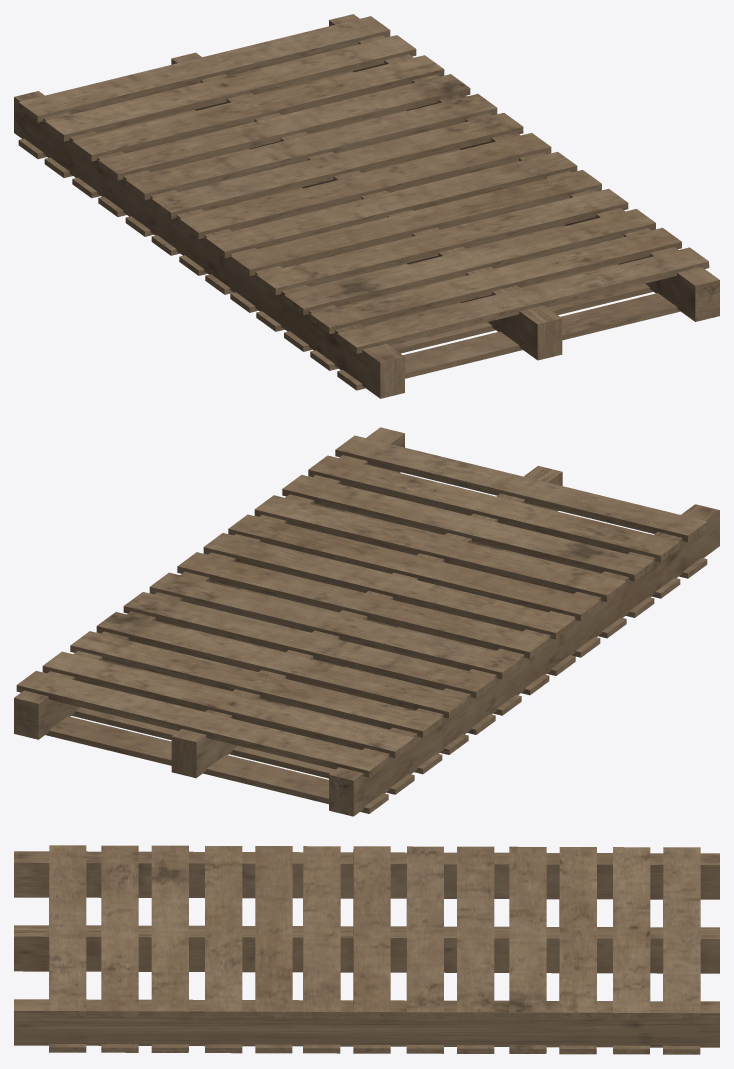
File: Pallet1.fbx
3 renders of one model, top to bottom at view 1: azimuth 30°, elevation 25°; view 2: azimuth 150°, elevation 25°; view 3: azimuth 270°, elevation 25°, orthographic. The views are drawn at different scales.
Visible parts, largest first — view 1: Pallet 1; view 2: Pallet 1; view 3: Pallet 1.
Part boxes in pixels (x1,y1,x2,y2): Pallet 1: (14, 14, 719, 398); Pallet 1: (14, 427, 719, 816); Pallet 1: (14, 845, 719, 1054).
Bounding box in the file's own units: 85.93 × 10.54 × 155.
1 material, 1 textured.
